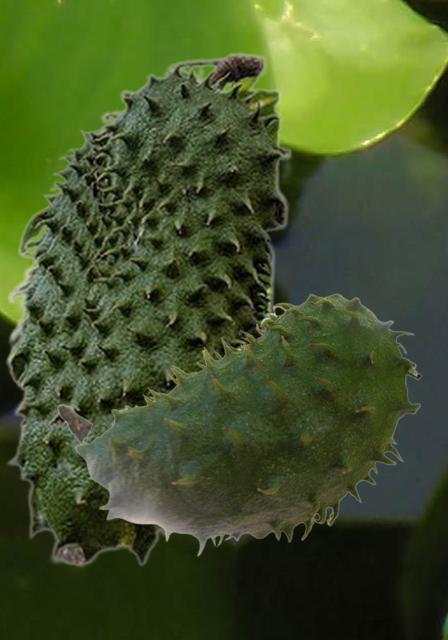guyabano: (4, 51, 291, 567), (56, 293, 421, 556)
